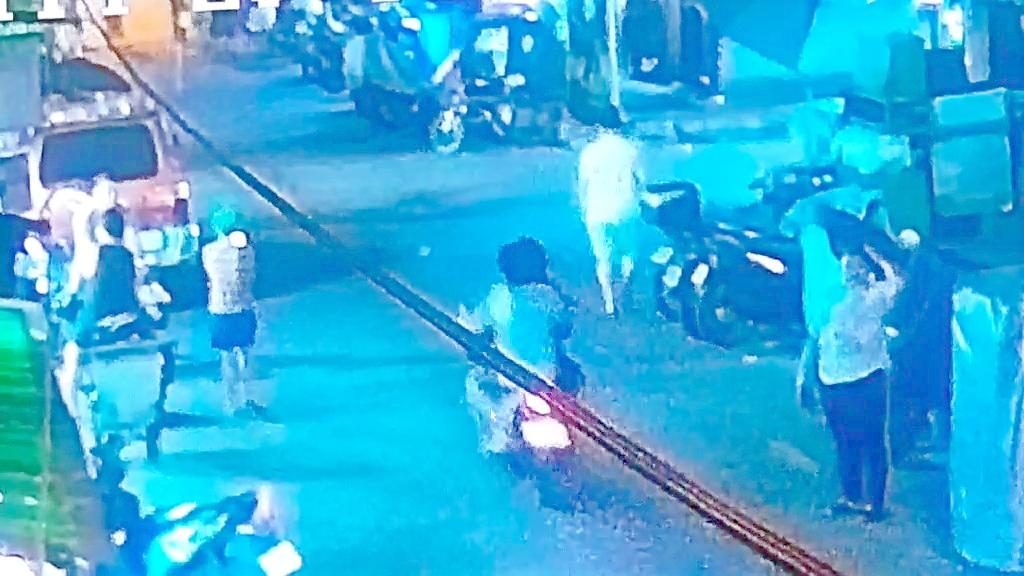Car: (28, 76, 226, 291)
Motor: (384, 211, 634, 469), (627, 146, 814, 336), (344, 0, 517, 161)
